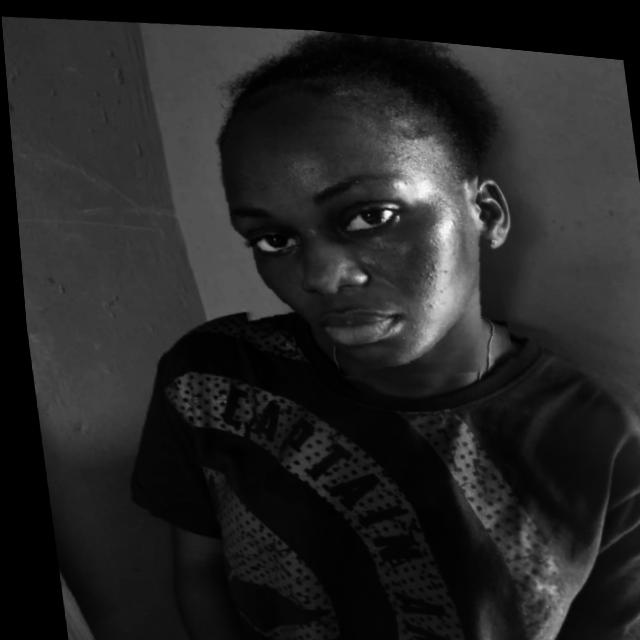sad: (200, 45, 509, 390)
